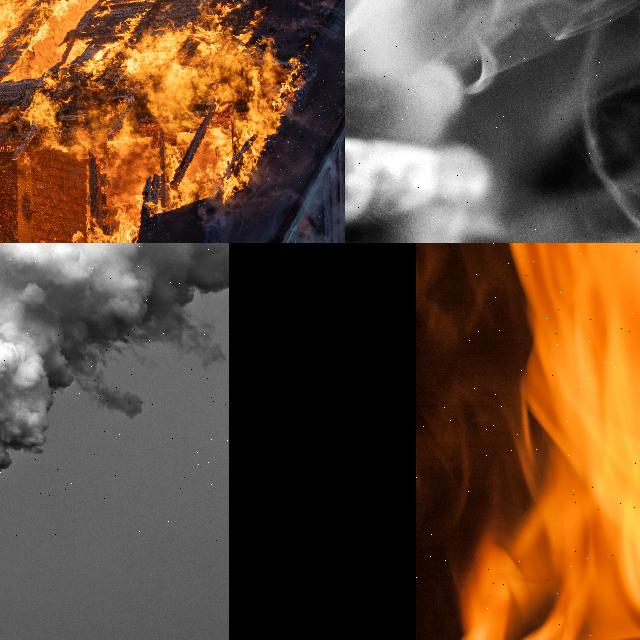fire: (465, 243, 640, 640)
smoke: (345, 0, 630, 243), (0, 243, 229, 470), (532, 95, 640, 205)
